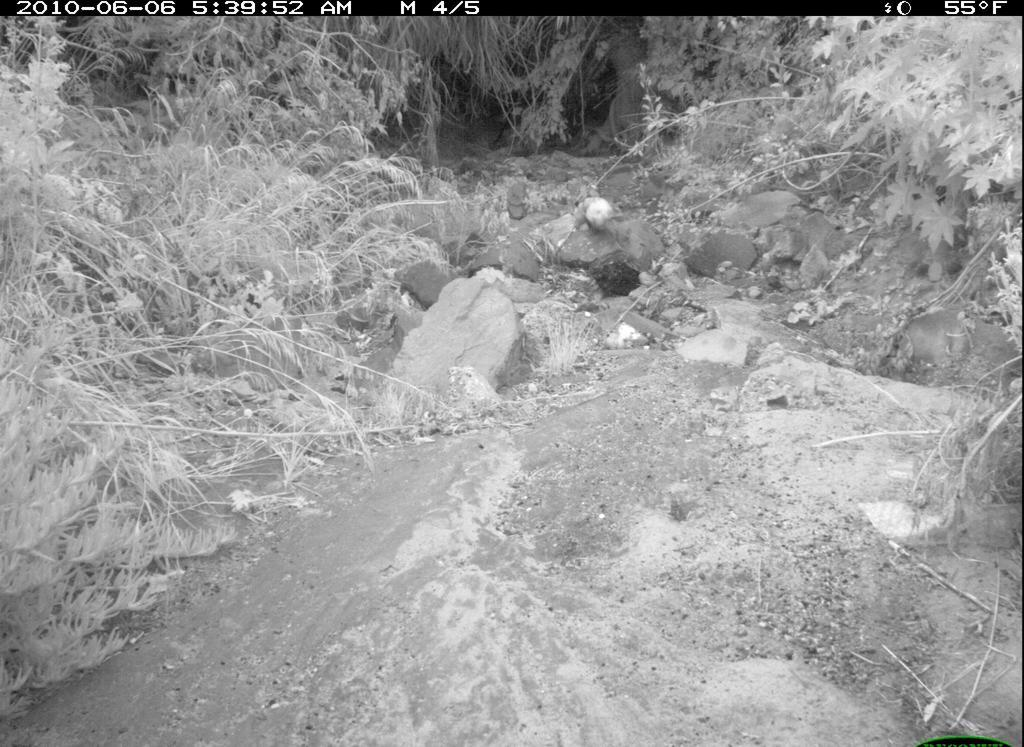opossum: (565, 186, 620, 245)
